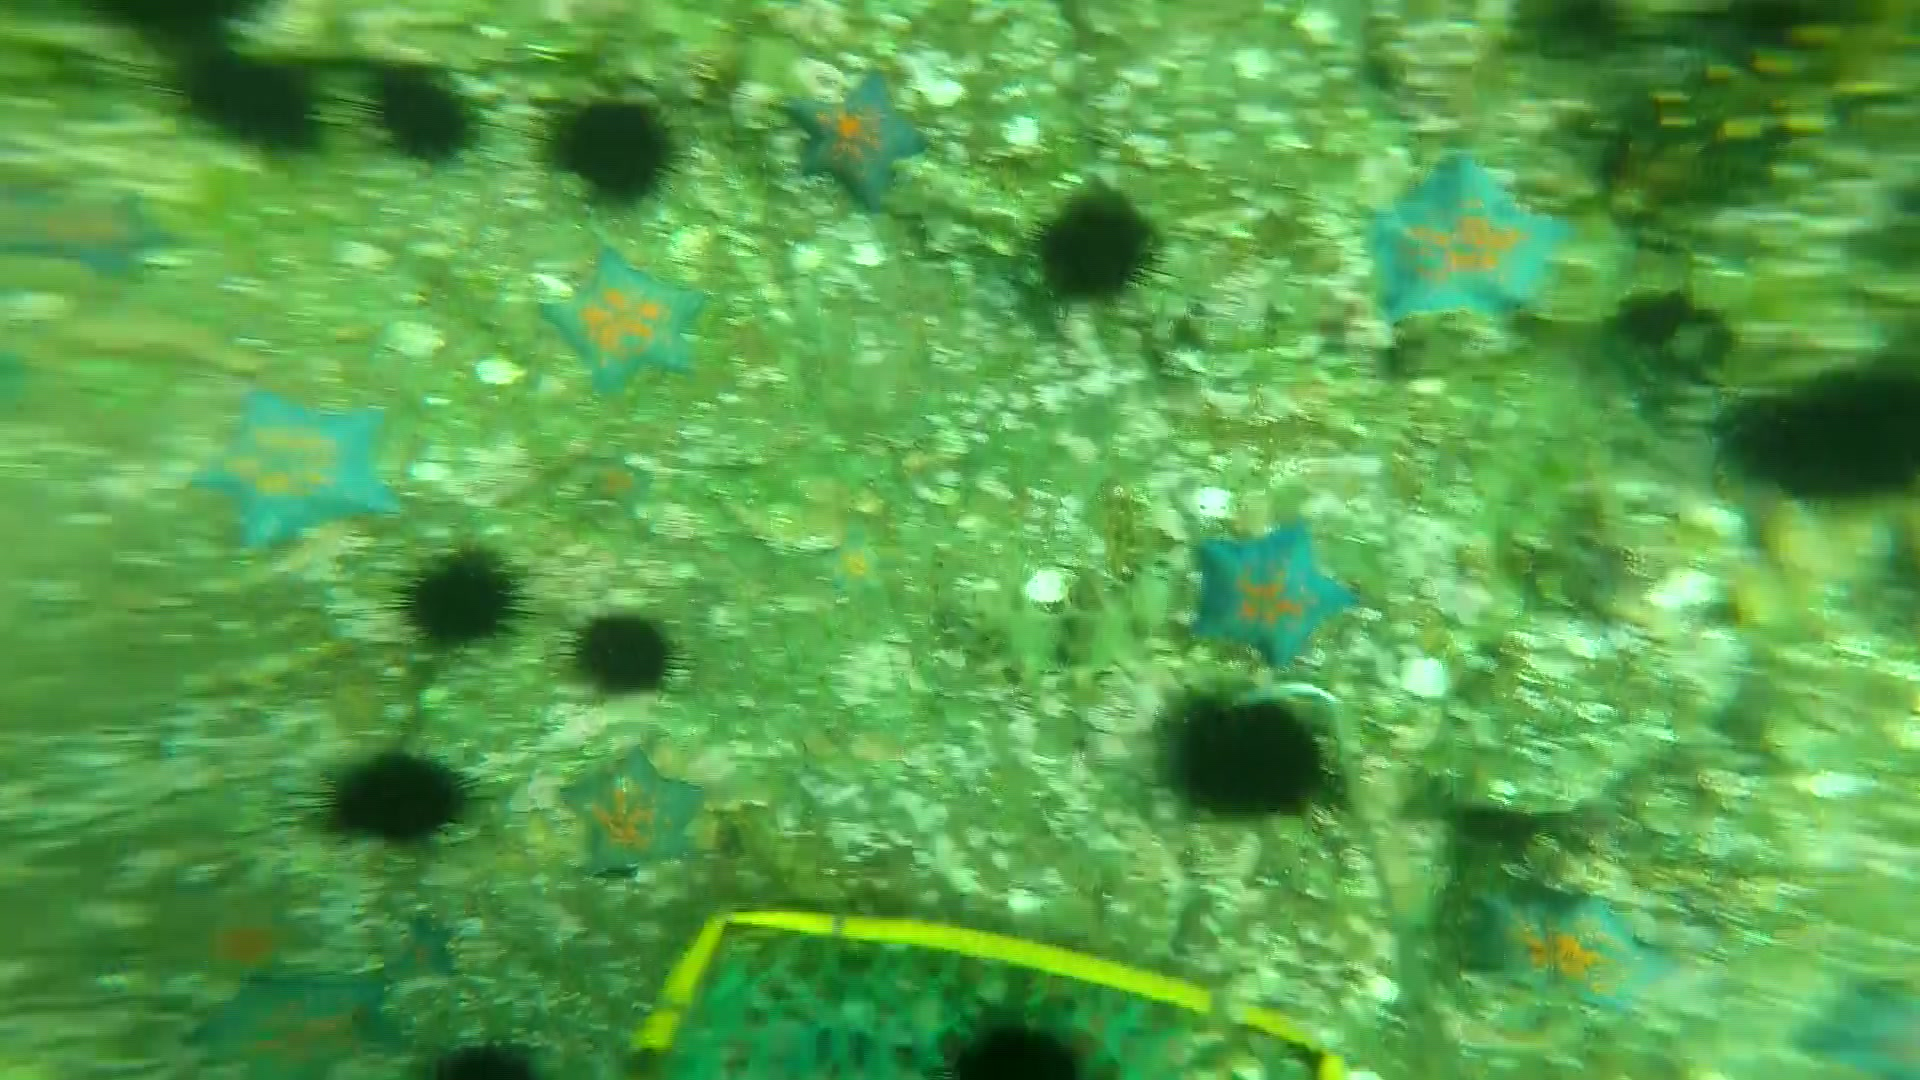echinus: (1712, 357, 1920, 516), (1141, 690, 1335, 822), (293, 738, 491, 855), (160, 45, 344, 167), (1015, 187, 1174, 305), (521, 91, 680, 202), (386, 538, 521, 655), (547, 603, 699, 703), (920, 1011, 1118, 1080), (359, 78, 493, 167), (91, 1, 264, 65), (1611, 284, 1702, 361), (429, 1035, 551, 1080)
starfish: (1346, 161, 1565, 332), (182, 372, 396, 546), (1477, 881, 1660, 1031), (524, 244, 713, 389), (542, 737, 721, 869), (778, 65, 935, 210), (1182, 524, 1338, 663), (182, 975, 382, 1080), (3, 185, 173, 284), (194, 881, 327, 989), (1799, 971, 1920, 1080), (808, 513, 901, 593), (373, 915, 468, 988), (559, 447, 651, 516)
